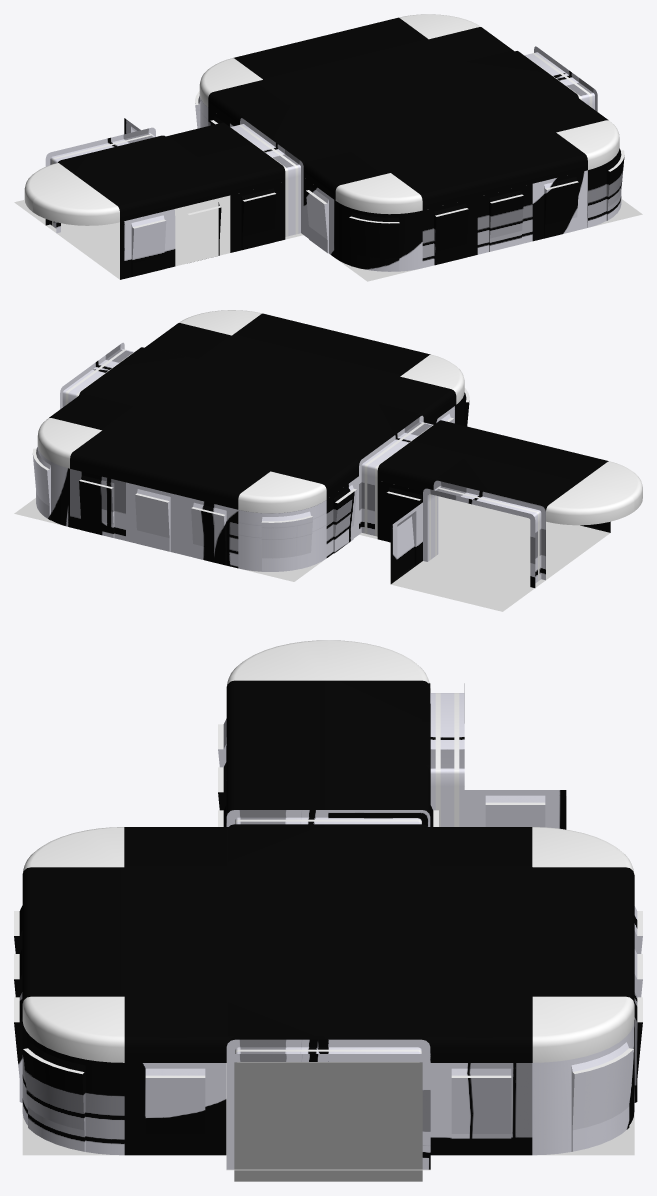
Rendered from Garage_withsilling2.fbx.
The picture shows the model from 3 angles, top to bottom: view 1: azimuth 30°, elevation 25°; view 2: azimuth 150°, elevation 25°; view 3: azimuth 270°, elevation 25°; orthographic projection. The views are drawn at different scales.
Parts seen in each view (by area): view 1: Sillingnew, Wall, Floor1; view 2: Sillingnew, Wall, Floor1; view 3: Sillingnew, Wall, Front, Floor1.
Part boxes in pixels (x1,y1,x2,y2): Sillingnew: (24, 14, 619, 225); Wall: (45, 46, 624, 279); Floor1: (14, 195, 642, 281); Sillingnew: (37, 310, 642, 525); Wall: (32, 342, 610, 587); Floor1: (14, 496, 609, 611); Sillingnew: (22, 640, 634, 1062); Wall: (14, 683, 642, 1169); Front: (234, 1062, 422, 1181); Floor1: (22, 796, 634, 1170).
Size of the model in its own units: 2905 by 414 by 1850.
Materials: 5 (2 with a texture image).
